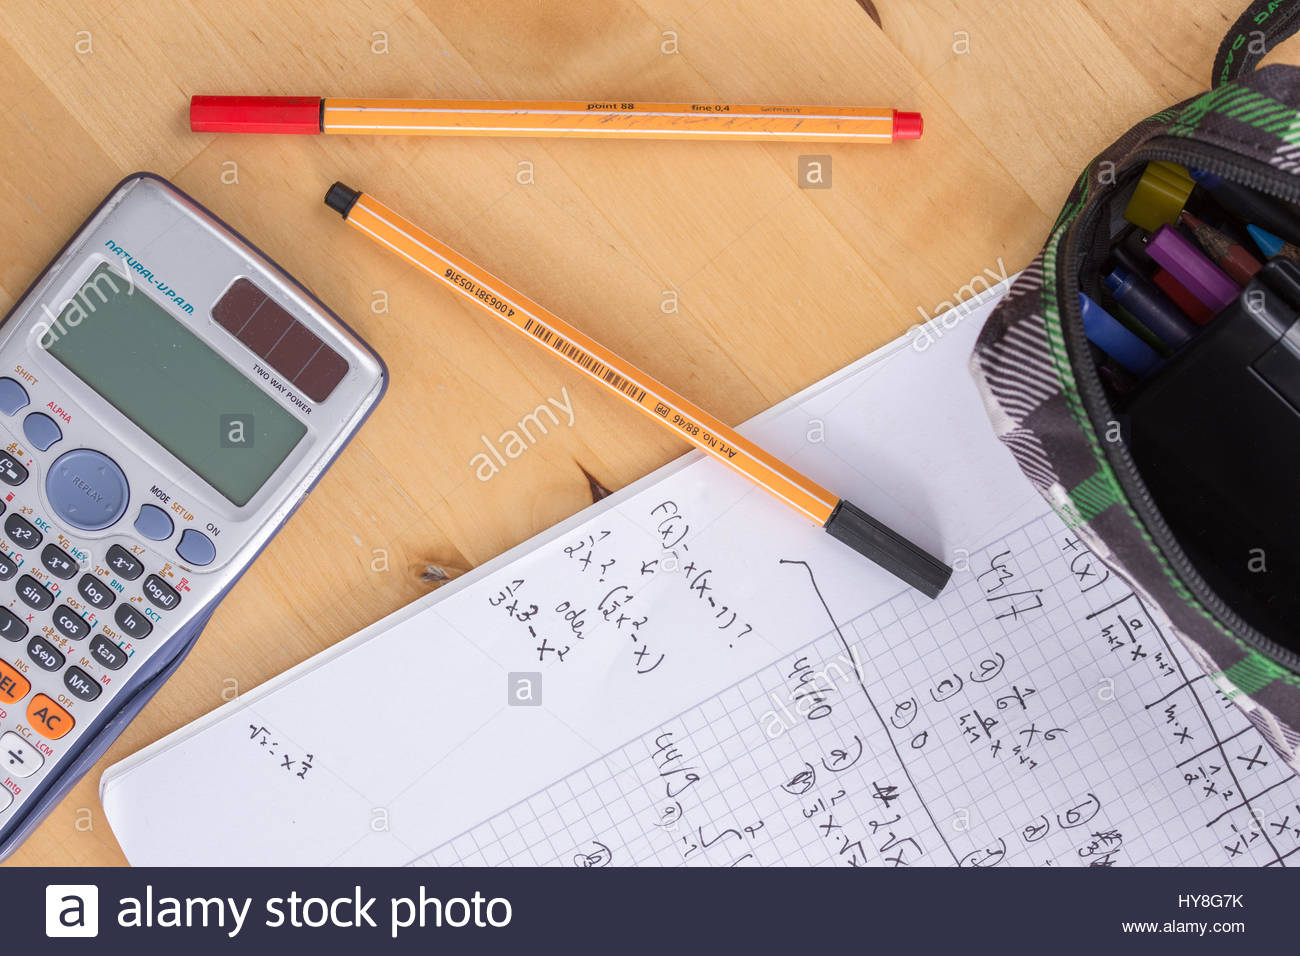Calculator: (2, 175, 400, 870)
